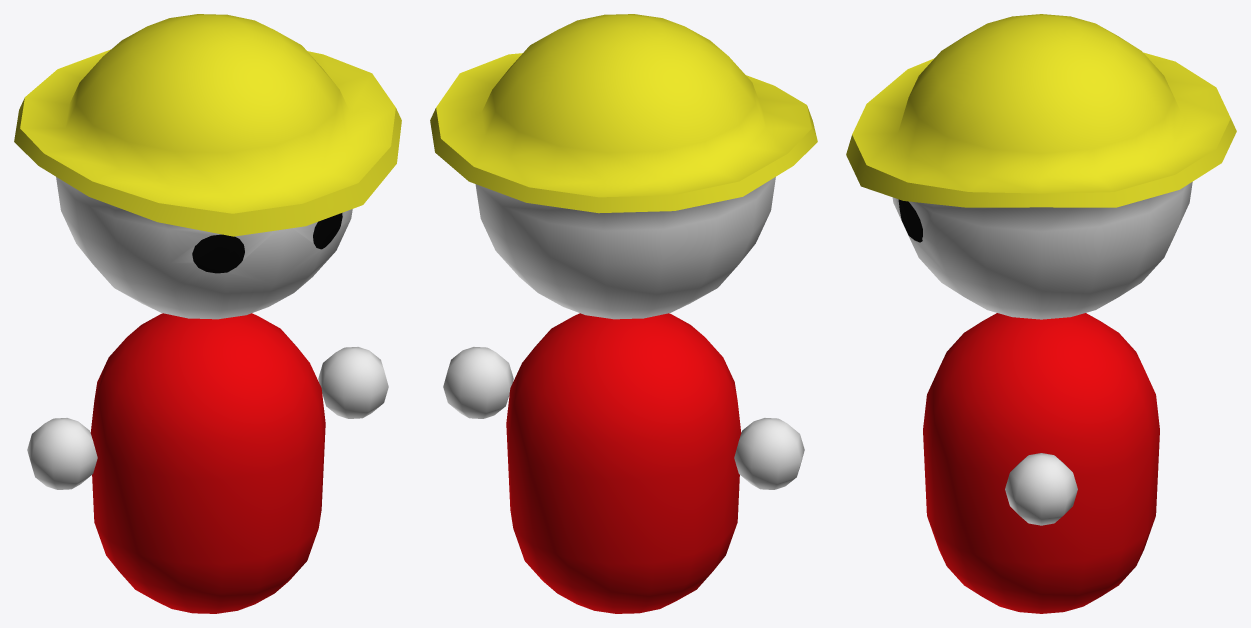
File: Villager.fbx
3 renders of one model, left to right at view 1: azimuth 30°, elevation 25°; view 2: azimuth 150°, elevation 25°; view 3: azimuth 270°, elevation 25°, orthographic.
Parts seen in each view (by area): view 1: Character; view 2: Character; view 3: Character.
Part boxes in pixels (box(x1,y1,x2,y2)): Character: box(14, 14, 401, 613); Character: box(430, 14, 817, 613); Character: box(846, 14, 1236, 613).
Size of the model in its own units: 2.44 by 3.79 by 2.33.
